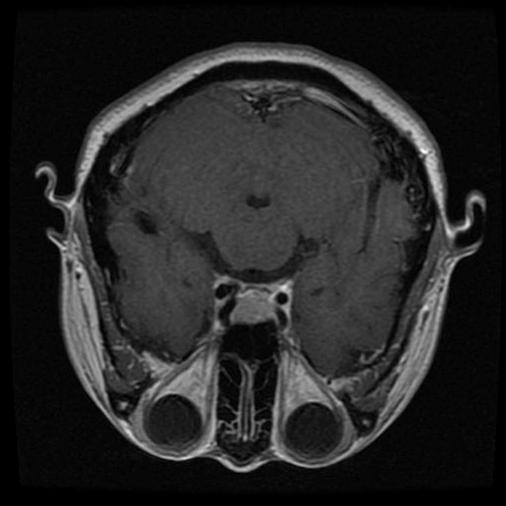Tumour-Pituitary: (210, 273, 302, 329)
